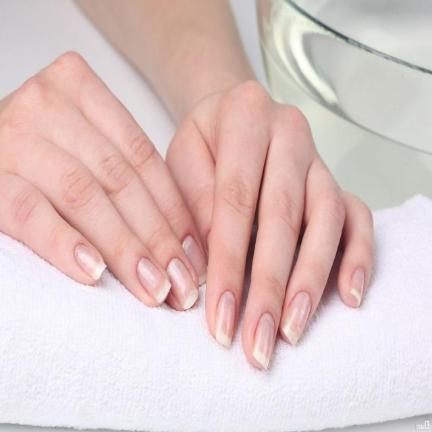Nail: (166, 258, 200, 310), (137, 257, 172, 305), (281, 292, 311, 346), (252, 312, 275, 370), (182, 235, 207, 285), (215, 290, 236, 347), (75, 244, 107, 280), (350, 268, 364, 306)
